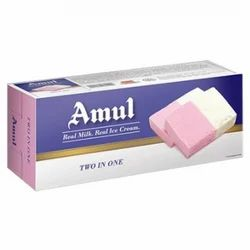Amul: (60, 90, 144, 130)
